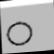no answer: (4, 19, 33, 47)
